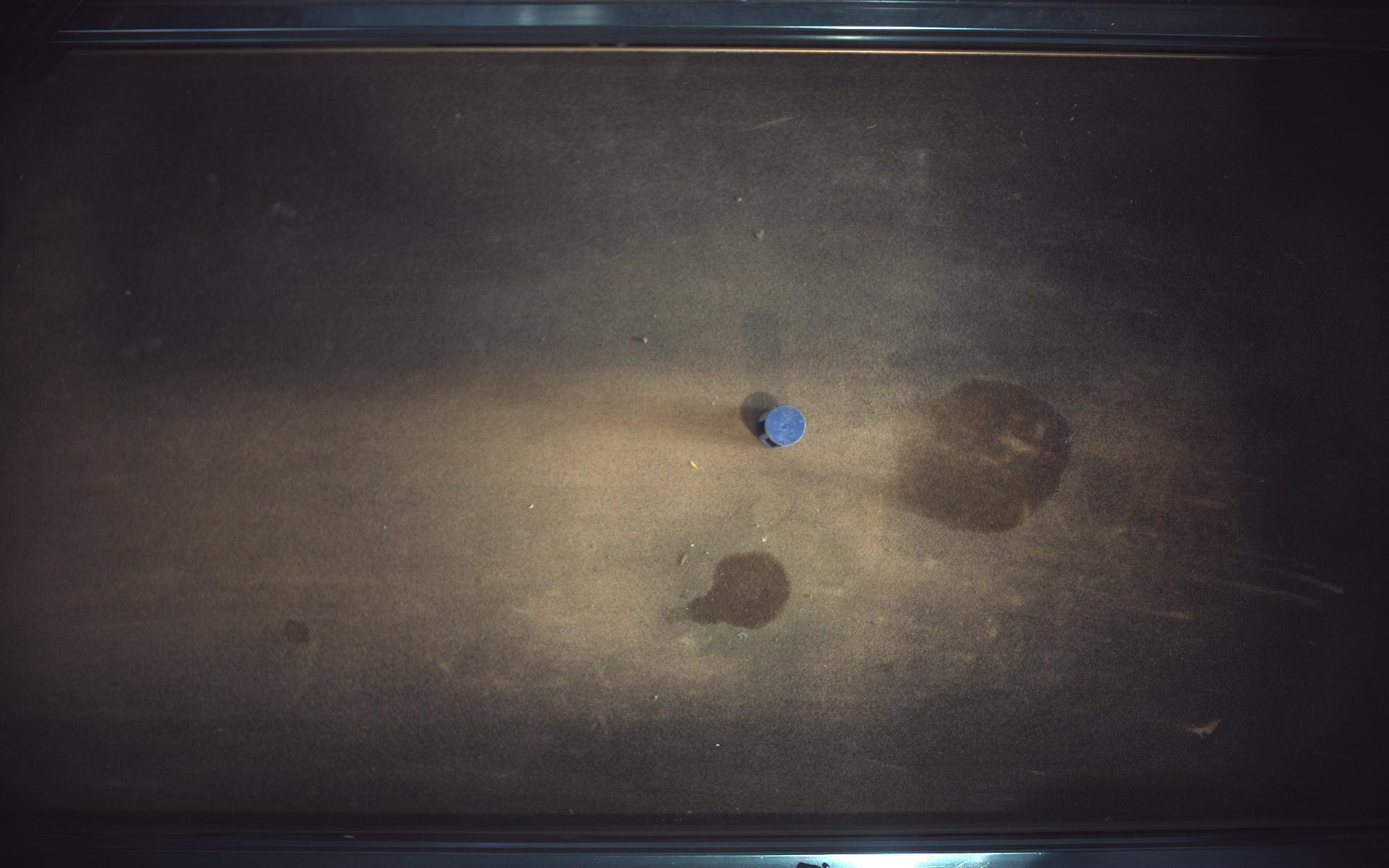plastic: (742, 392, 807, 448)
